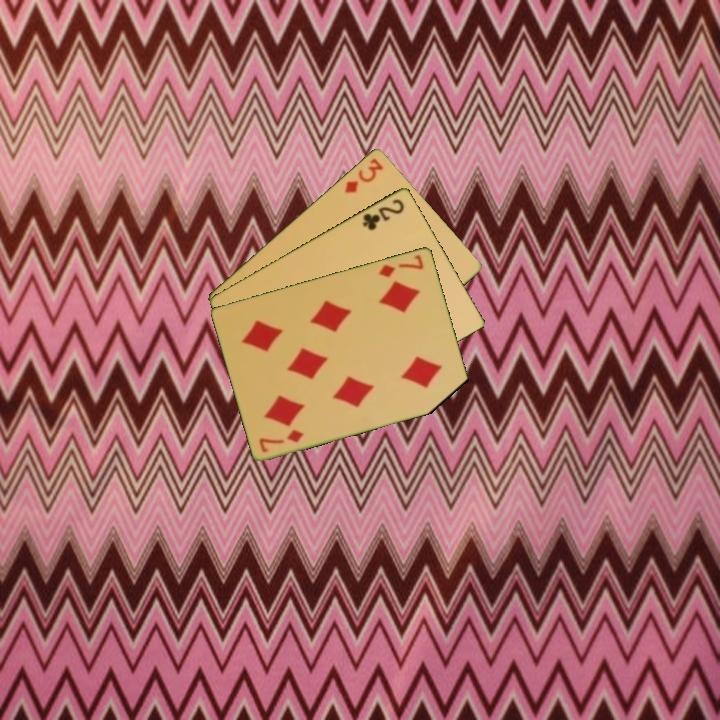2c: (359, 195, 407, 233)
3d: (341, 154, 386, 196)
7d: (375, 250, 427, 280), (256, 425, 307, 455)
